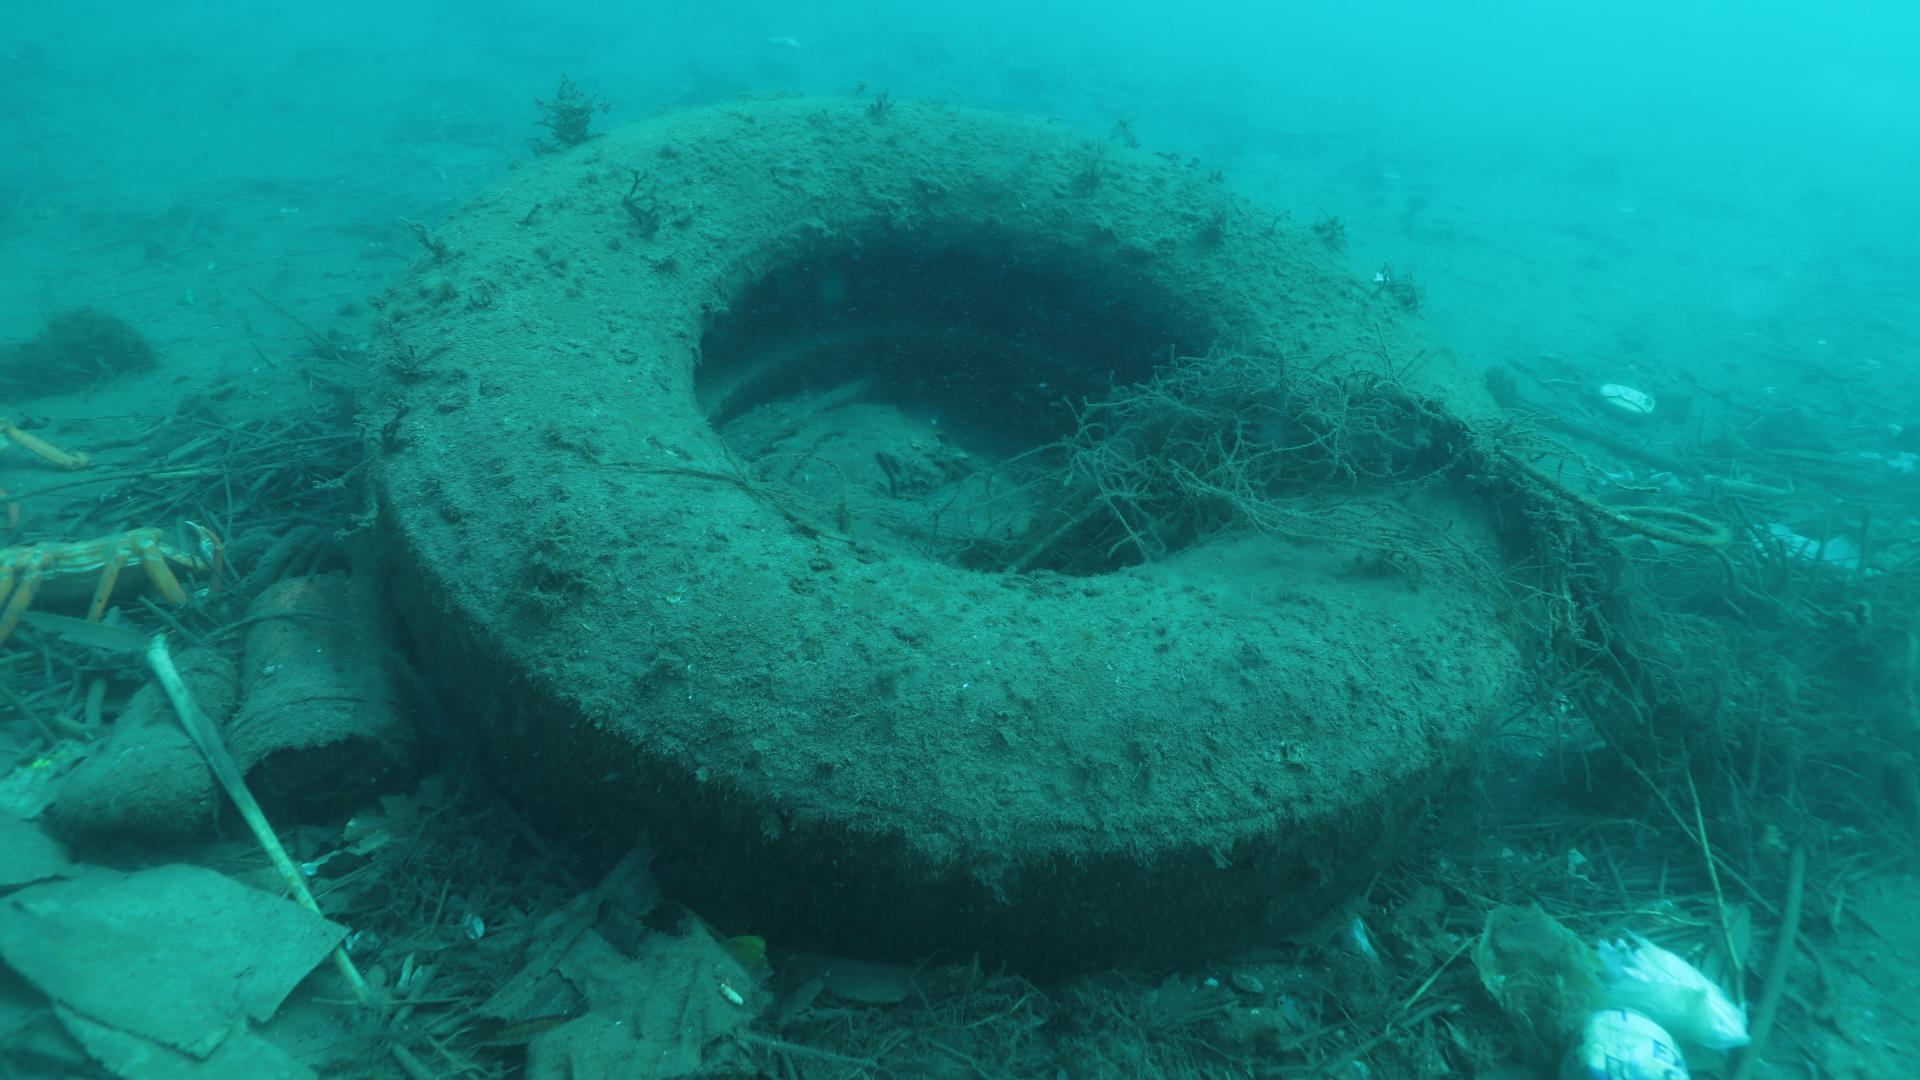tire: (369, 96, 1524, 977)
